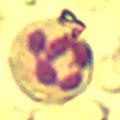neutrophil: (10, 17, 101, 105)
